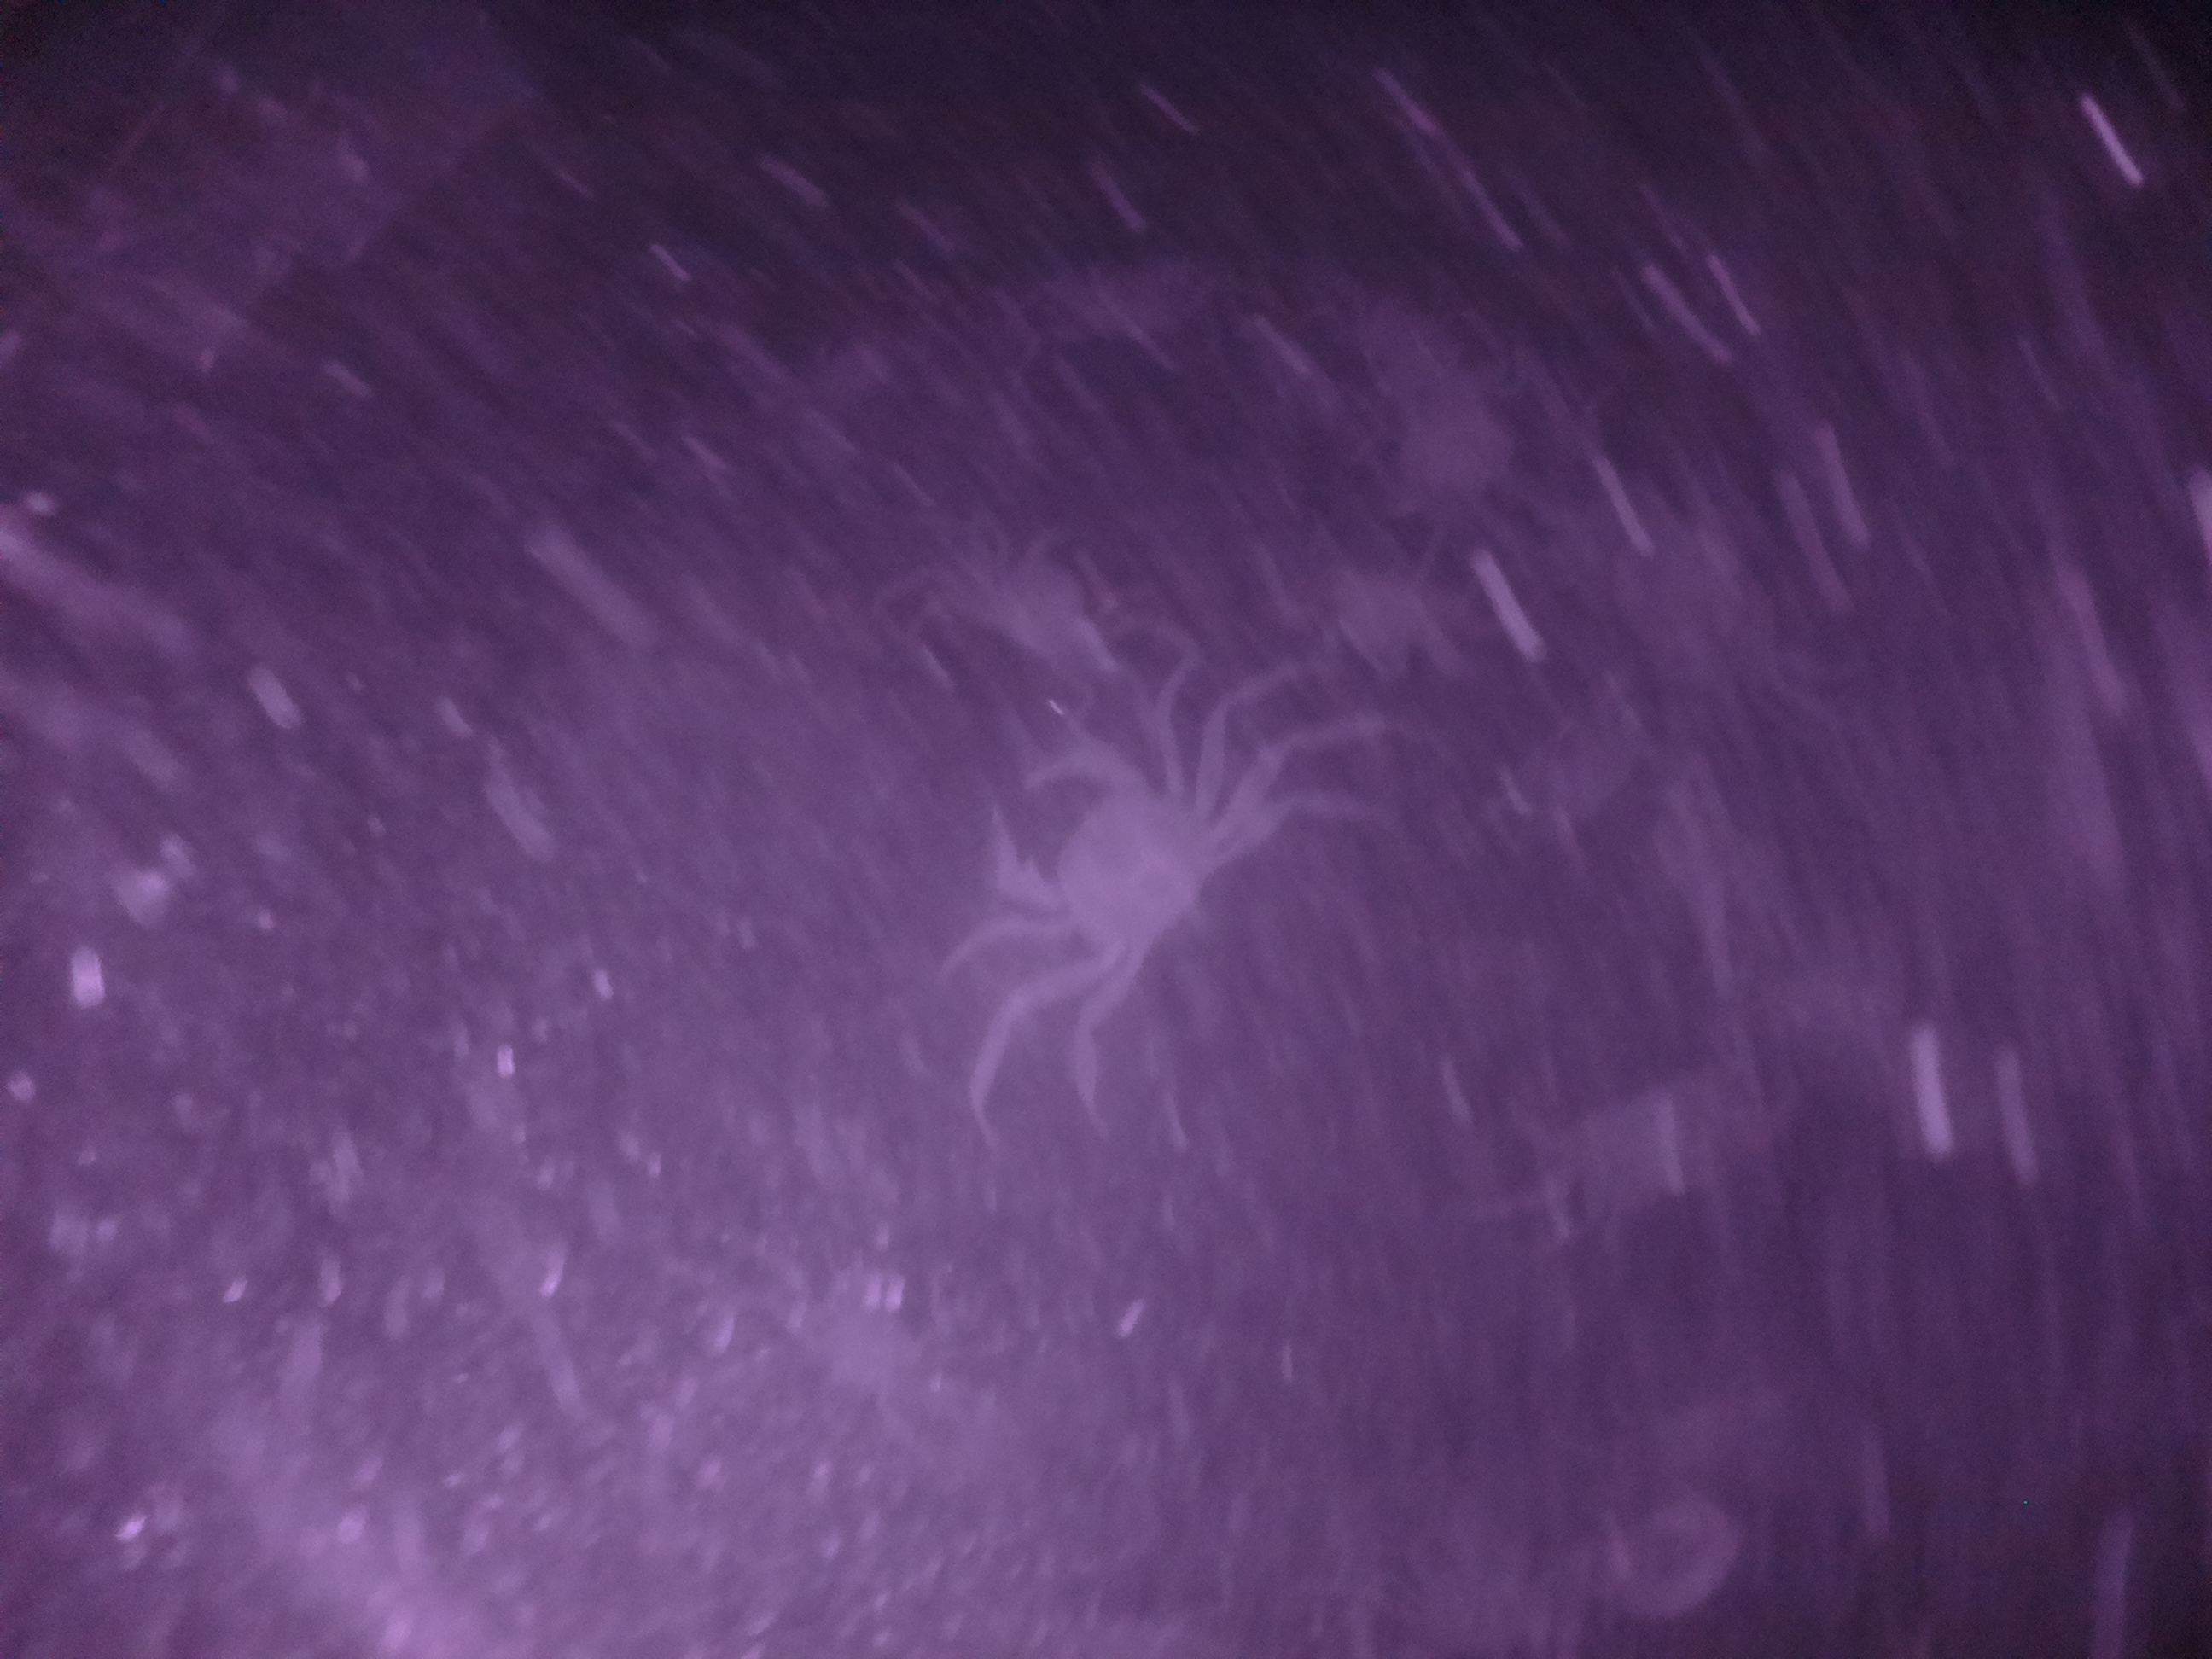Crab: (986, 721, 1247, 1004)
